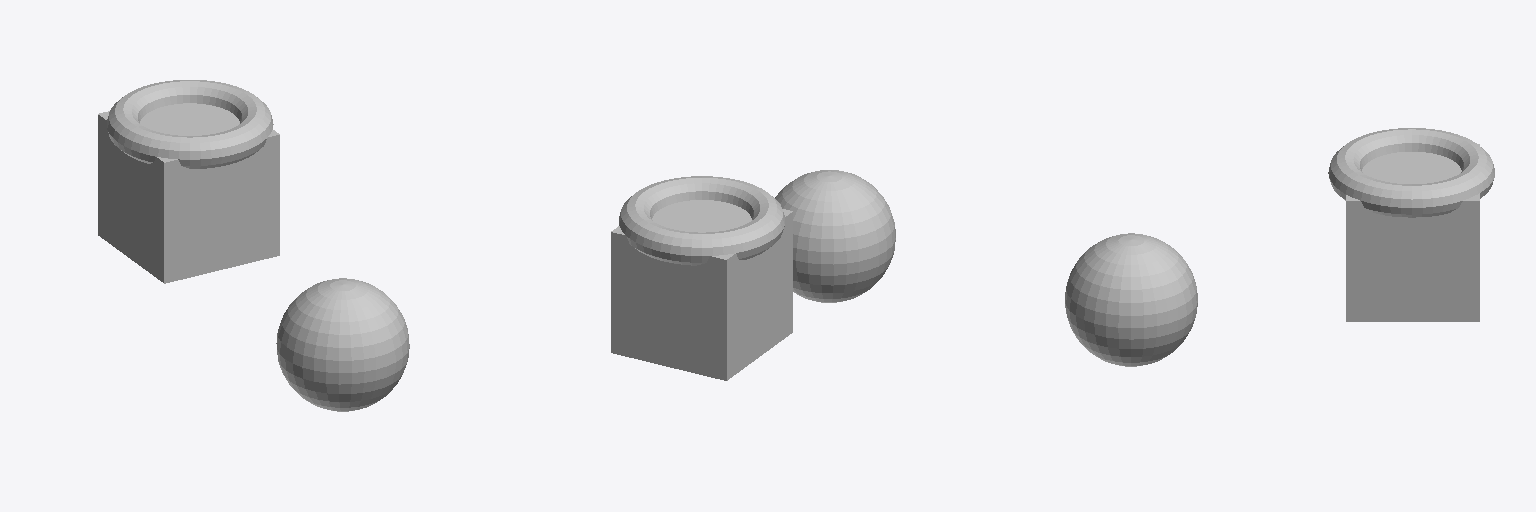
File: obstacles.obj
3 views of the same model, side by side, from view 1: azimuth 30°, elevation 25°; view 2: azimuth 150°, elevation 25°; view 3: azimuth 270°, elevation 25° (orthographic).
Parts seen in each view (by area): view 1: Cube, Sphere, Torus; view 2: Cube, Sphere, Torus; view 3: Cube, Sphere, Torus.
Part boxes in pixels (x1,y1,x2,y2): Cube: (98,103,279,283); Sphere: (276,278,409,411); Torus: (107,80,273,168); Cube: (611,200,792,380); Sphere: (775,170,895,302); Torus: (619,176,784,265); Cube: (1346,144,1479,321); Sphere: (1065,233,1197,366); Torus: (1328,128,1494,217).
Size of the model in its own units: 12.5 by 16.25 by 32.24.